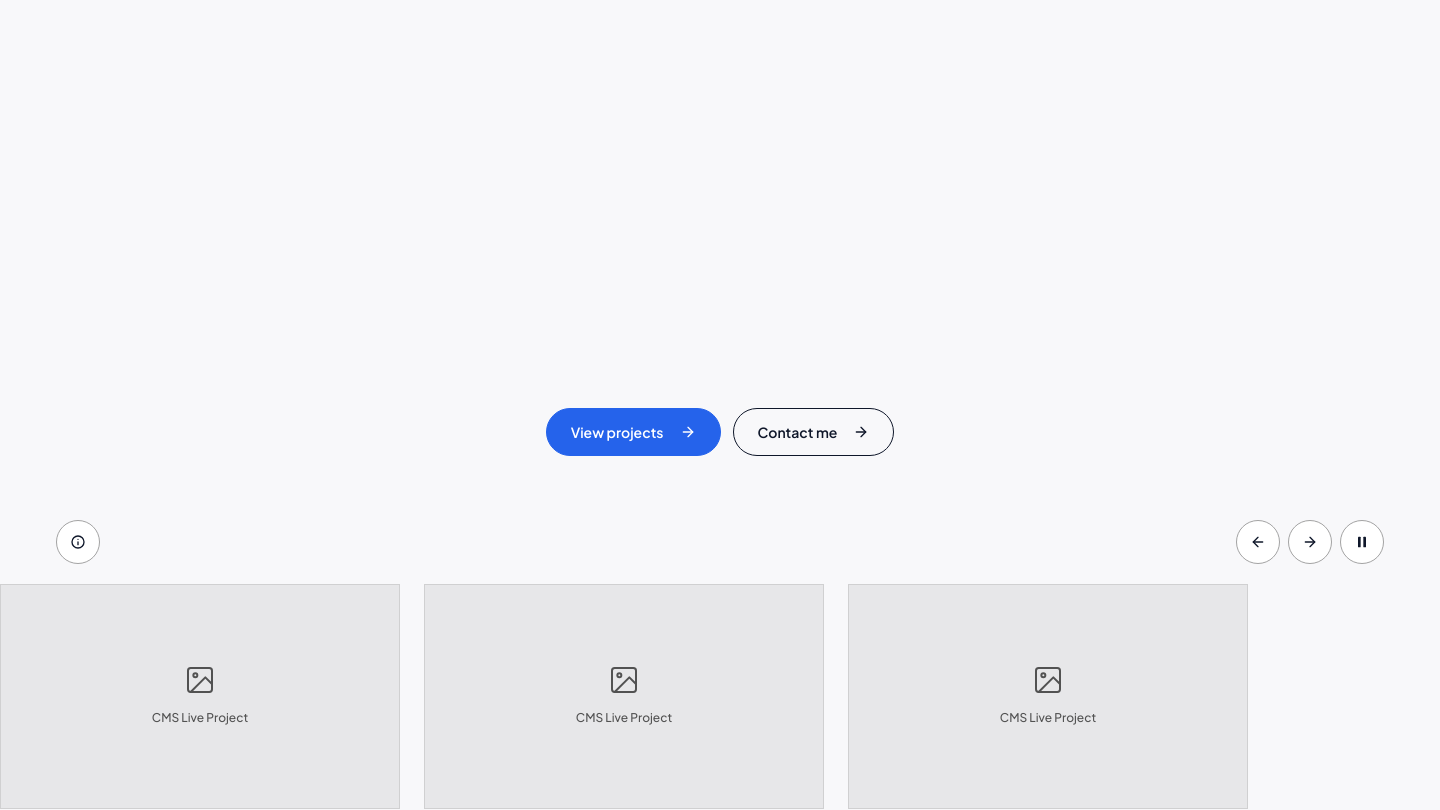
it: Home (Redesigned) › renders dynamic greeting, formatted ISO timeline dates, and interactive HeroProjectStrip swipe/step controls
Expected: the 1st text "CMS Live Project" is shown, [152,708,248,728]
Expected: the button named "Previous project preview" is shown, [1236,520,1280,564]
Press the mouse on the element named "Project previews" at (720, 696), box [0,584,1439,809]
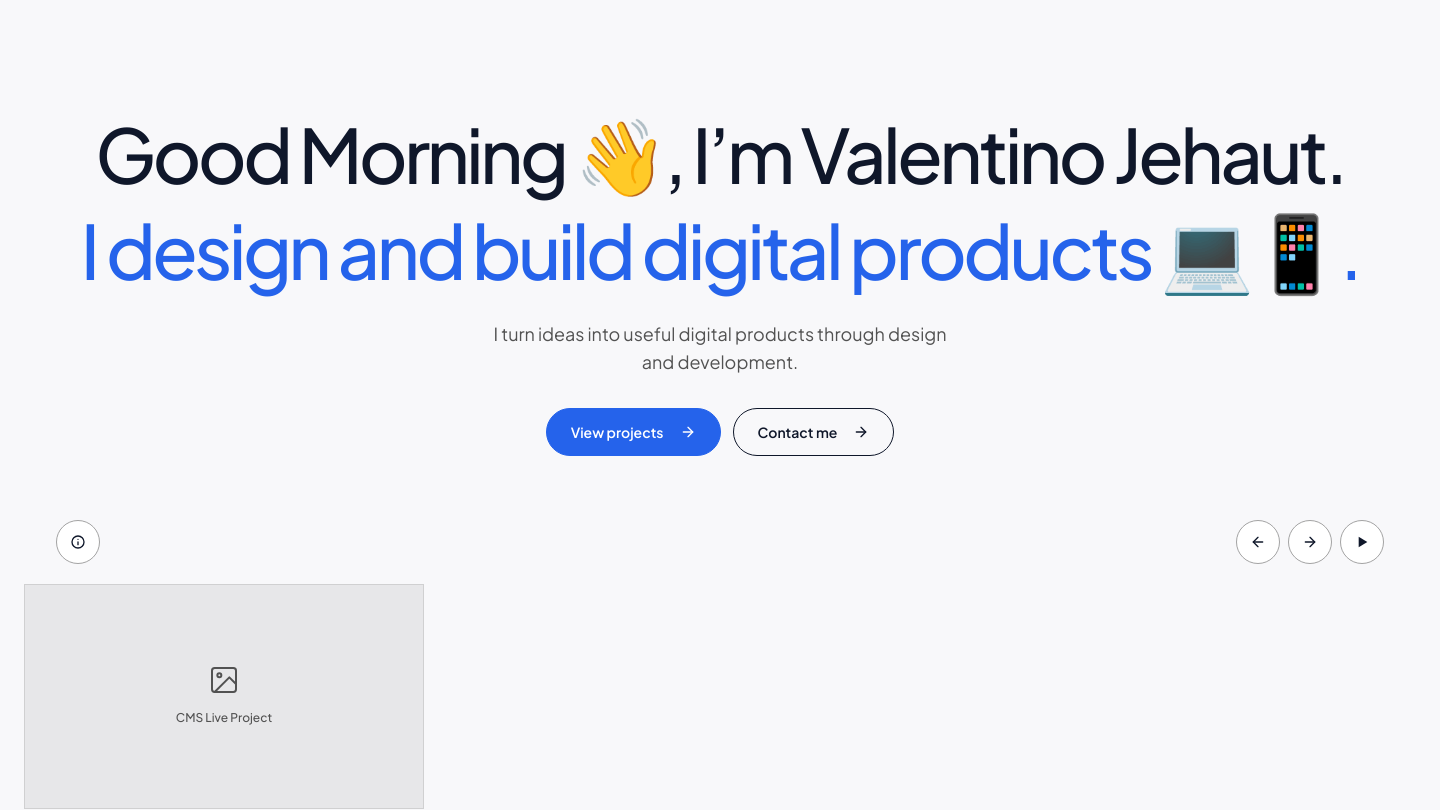
Expected: the button named "Play project previews" is shown, [1340,520,1384,564]
